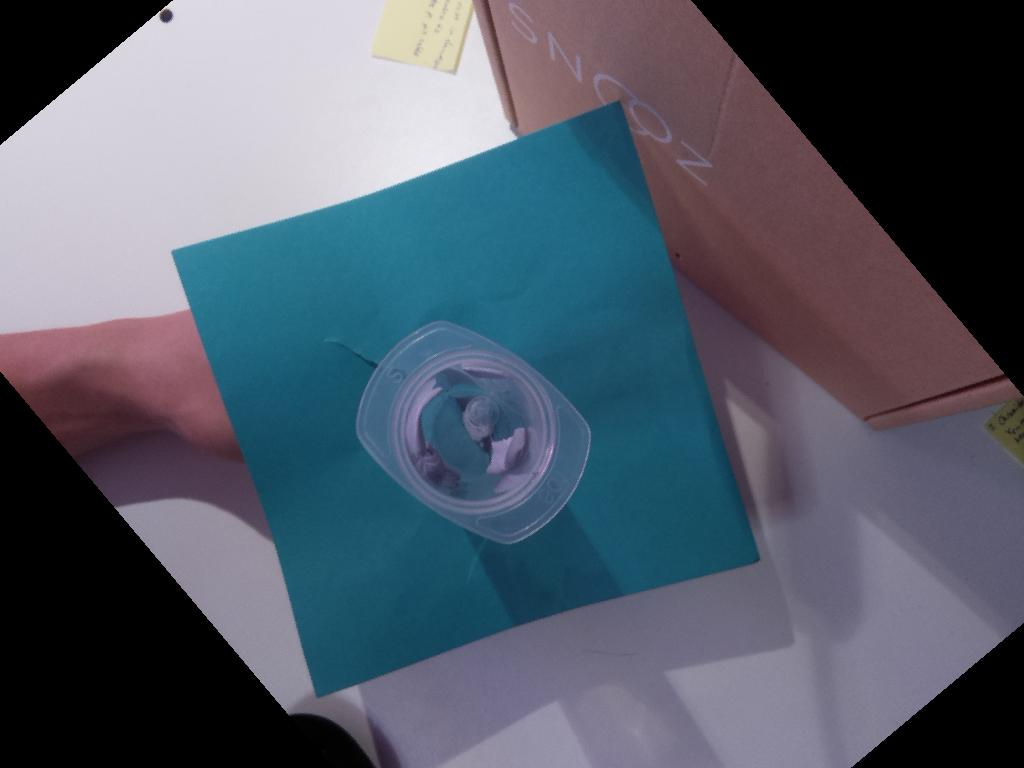dirty: (356, 318, 591, 545)
